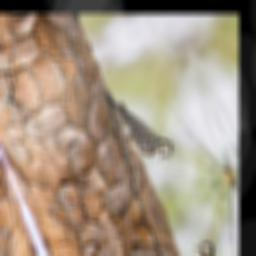Woodpecker: (95, 67, 176, 179)
